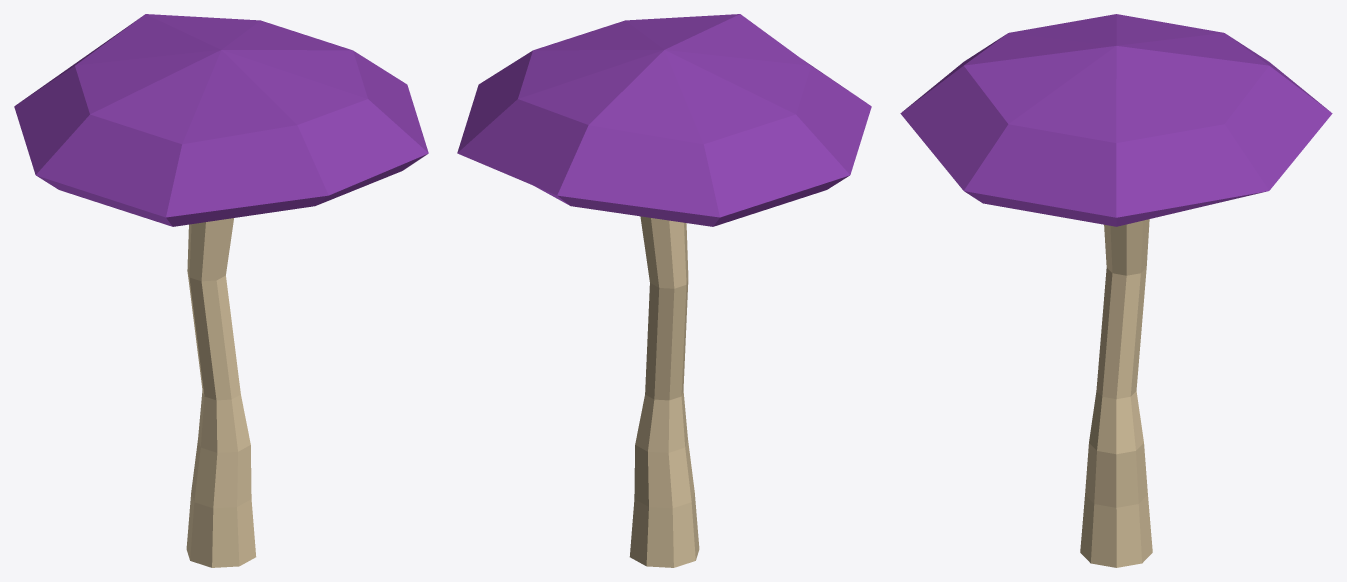
The model's file is Champignon_B.FBX.
3 renders of one model, left to right at view 1: azimuth 30°, elevation 25°; view 2: azimuth 150°, elevation 25°; view 3: azimuth 270°, elevation 25°, orthographic.
Visible parts, largest first — view 1: Champignon_B; view 2: Champignon_B; view 3: Champignon_B.
Boxes of the visible parts, left/top/right/bottom form: Champignon_B: left=14, top=14, right=428, bottom=567; Champignon_B: left=457, top=14, right=871, bottom=567; Champignon_B: left=900, top=14, right=1332, bottom=567.
Size of the model in its own units: 6.3 by 8.15 by 6.3.
1 material, 1 textured.
